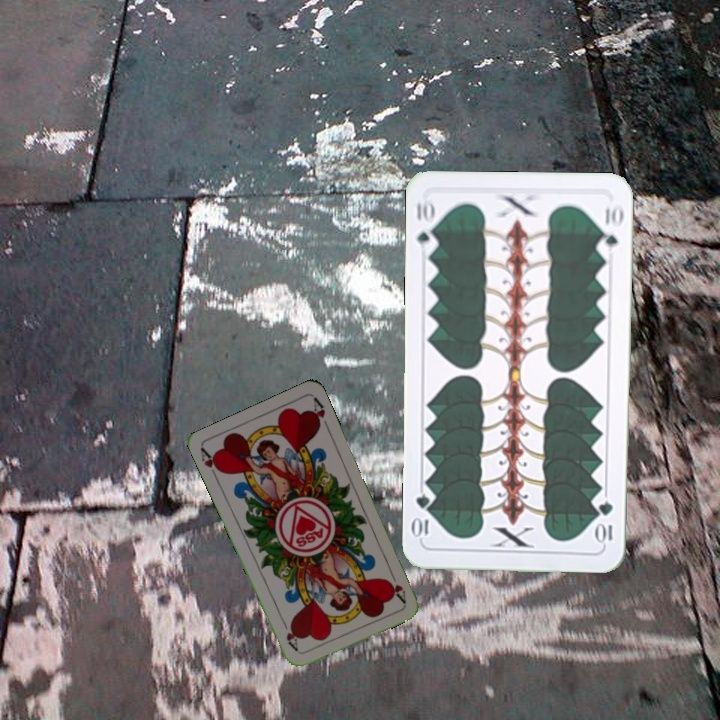G10: (412, 195, 439, 255), (595, 497, 615, 546)
HA: (196, 444, 225, 483), (385, 566, 408, 605)
